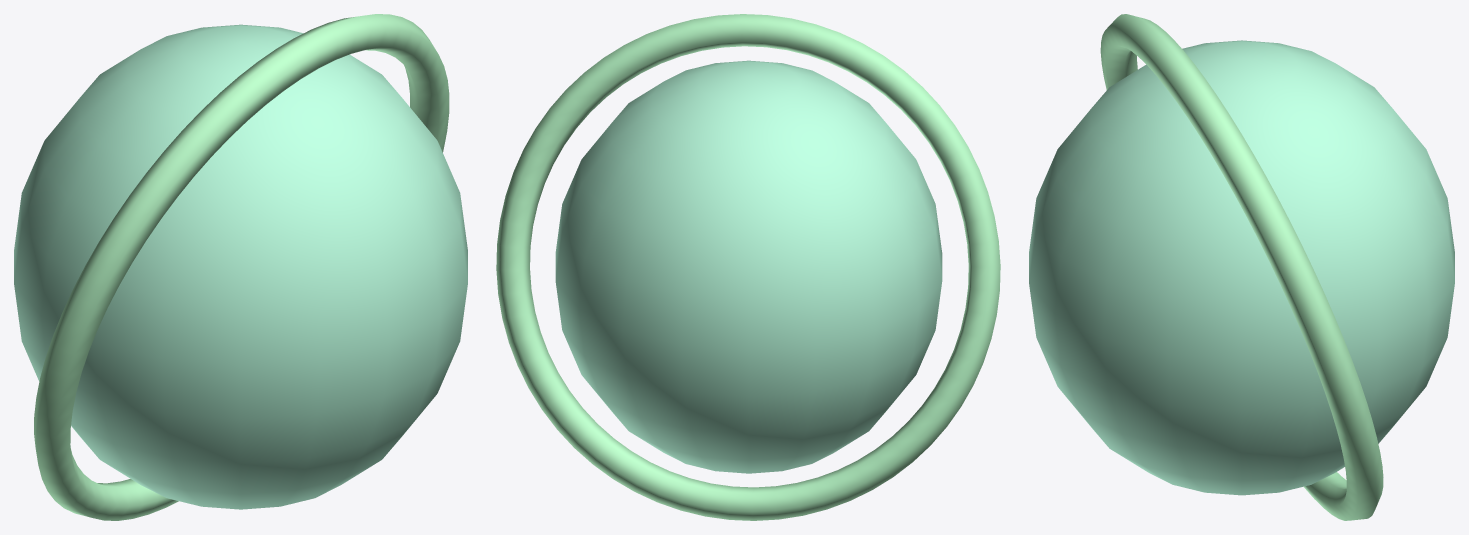
The model's file is item-rebirth-wisp.glb.
3 renders of one model, left to right at view 1: azimuth 30°, elevation 25°; view 2: azimuth 150°, elevation 25°; view 3: azimuth 270°, elevation 25°, orthographic. The views are drawn at different scales.
Bounding box in the file's own units: 0.1709 × 0.1721 × 0.1379.
